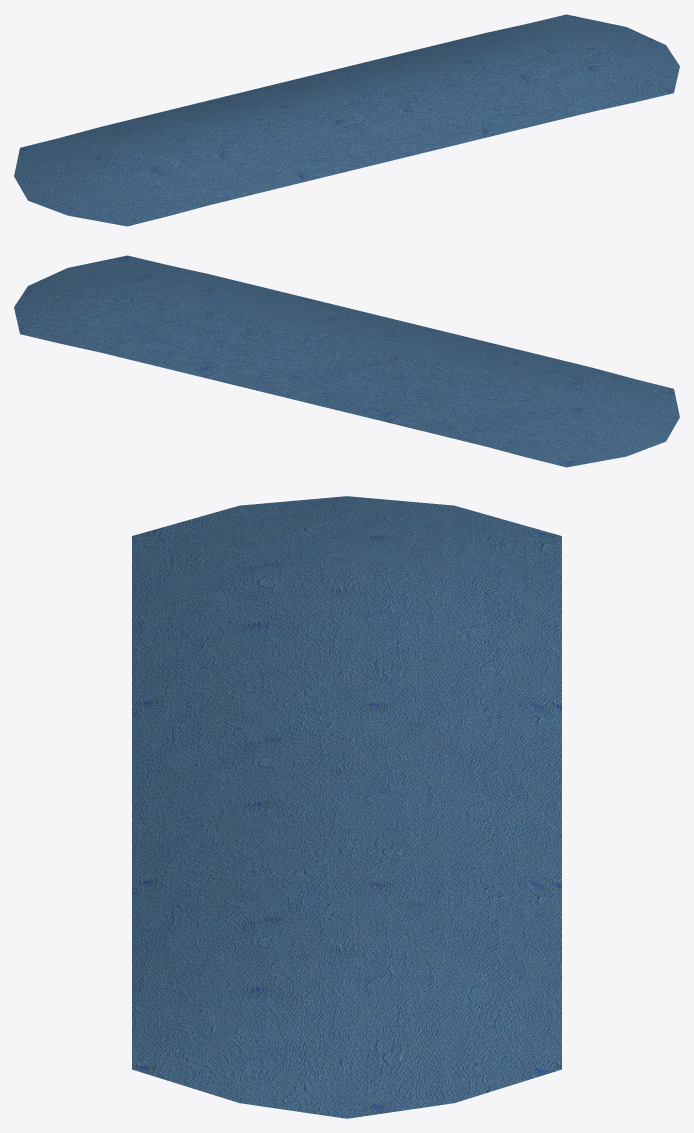
Rendered from Terreno.fbx.
The picture shows the model from 3 angles, top to bottom: view 1: azimuth 30°, elevation 25°; view 2: azimuth 150°, elevation 25°; view 3: azimuth 270°, elevation 25°; orthographic projection. The views are drawn at different scales.
Parts seen in each view (by area): view 1: Plane; view 2: Plane; view 3: Plane.
Part boxes in pixels (x1,y1,x2,y2): Plane: (14, 14, 679, 226); Plane: (14, 255, 679, 467); Plane: (132, 496, 561, 1118).
Size of the model in its own units: 779 by 30.16 by 227.
